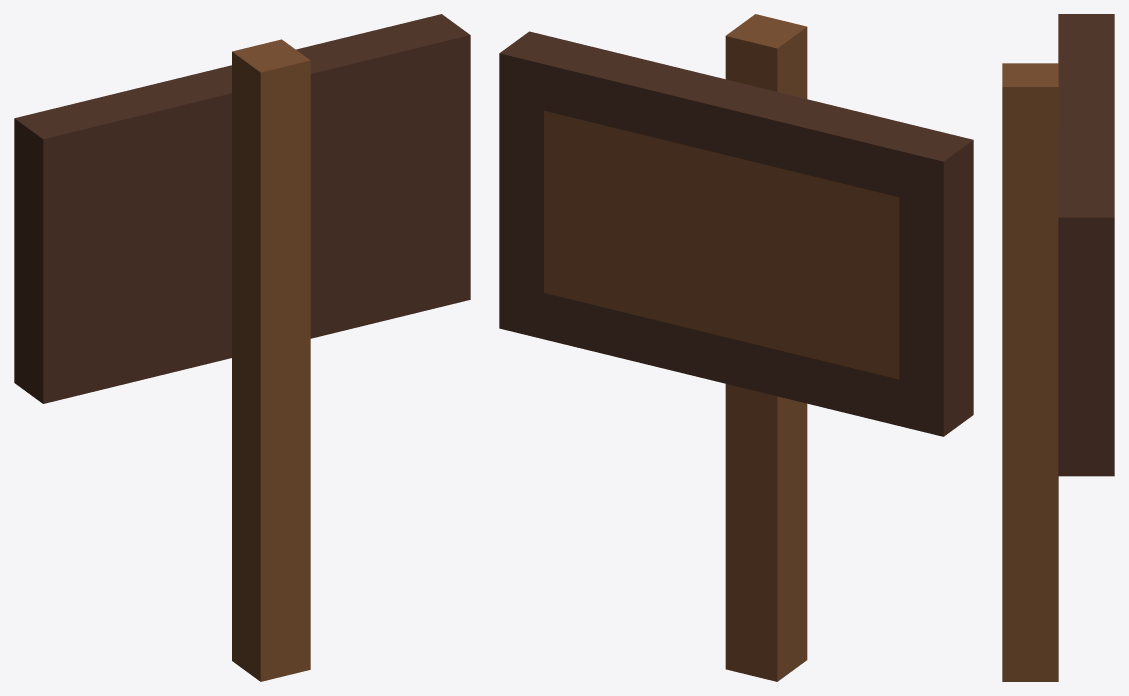
Rendered from kenney_sign.glb.
3 renders of one model, left to right at view 1: azimuth 30°, elevation 25°; view 2: azimuth 150°, elevation 25°; view 3: azimuth 270°, elevation 25°, orthographic. The views are drawn at different scales.
Visible parts, largest first — view 1: wood; view 2: wood; view 3: wood.
Boxes of the visible parts, x1,y1,x2,y2 form: wood: (14, 14, 470, 681); wood: (499, 14, 973, 681); wood: (1002, 14, 1114, 681).
Bounding box in the file's own units: 0.3 × 0.4088 × 0.07.
